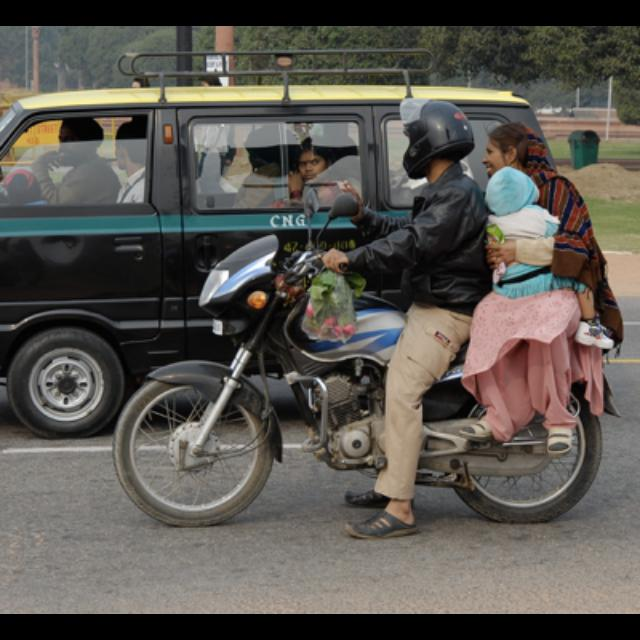With Helmet: (394, 98, 478, 180)
